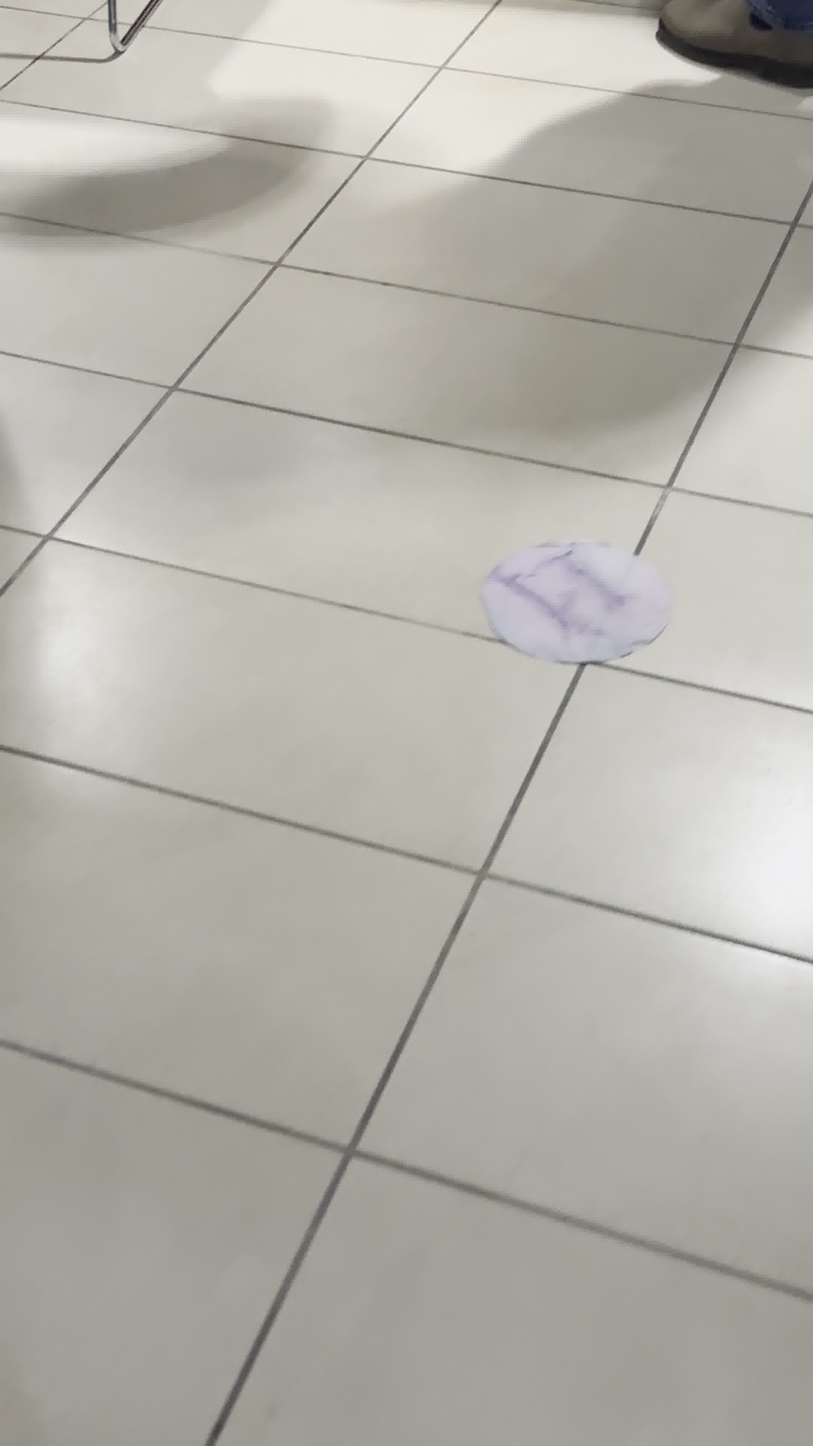Target: (481, 535, 669, 664)
